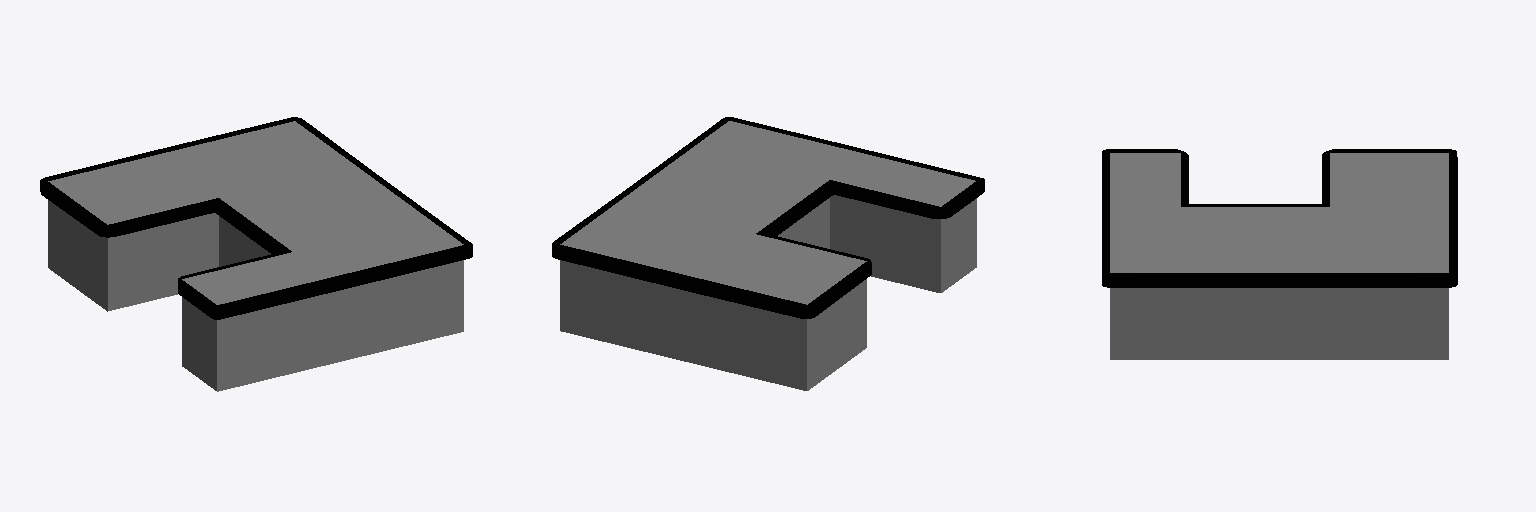
File: cashierStand.obj
3 renders of one model, left to right at view 1: azimuth 30°, elevation 25°; view 2: azimuth 150°, elevation 25°; view 3: azimuth 270°, elevation 25°, orthographic.
Visible parts, largest first — view 1: Cube; view 2: Cube; view 3: Cube.
Part boxes in pixels (left/top/right/bottom): Cube: left=40, top=117, right=472, bottom=391; Cube: left=552, top=117, right=984, bottom=390; Cube: left=1102, top=149, right=1457, bottom=359.
Bounding box in the file's own units: 3.73 × 1.19 × 4.4.